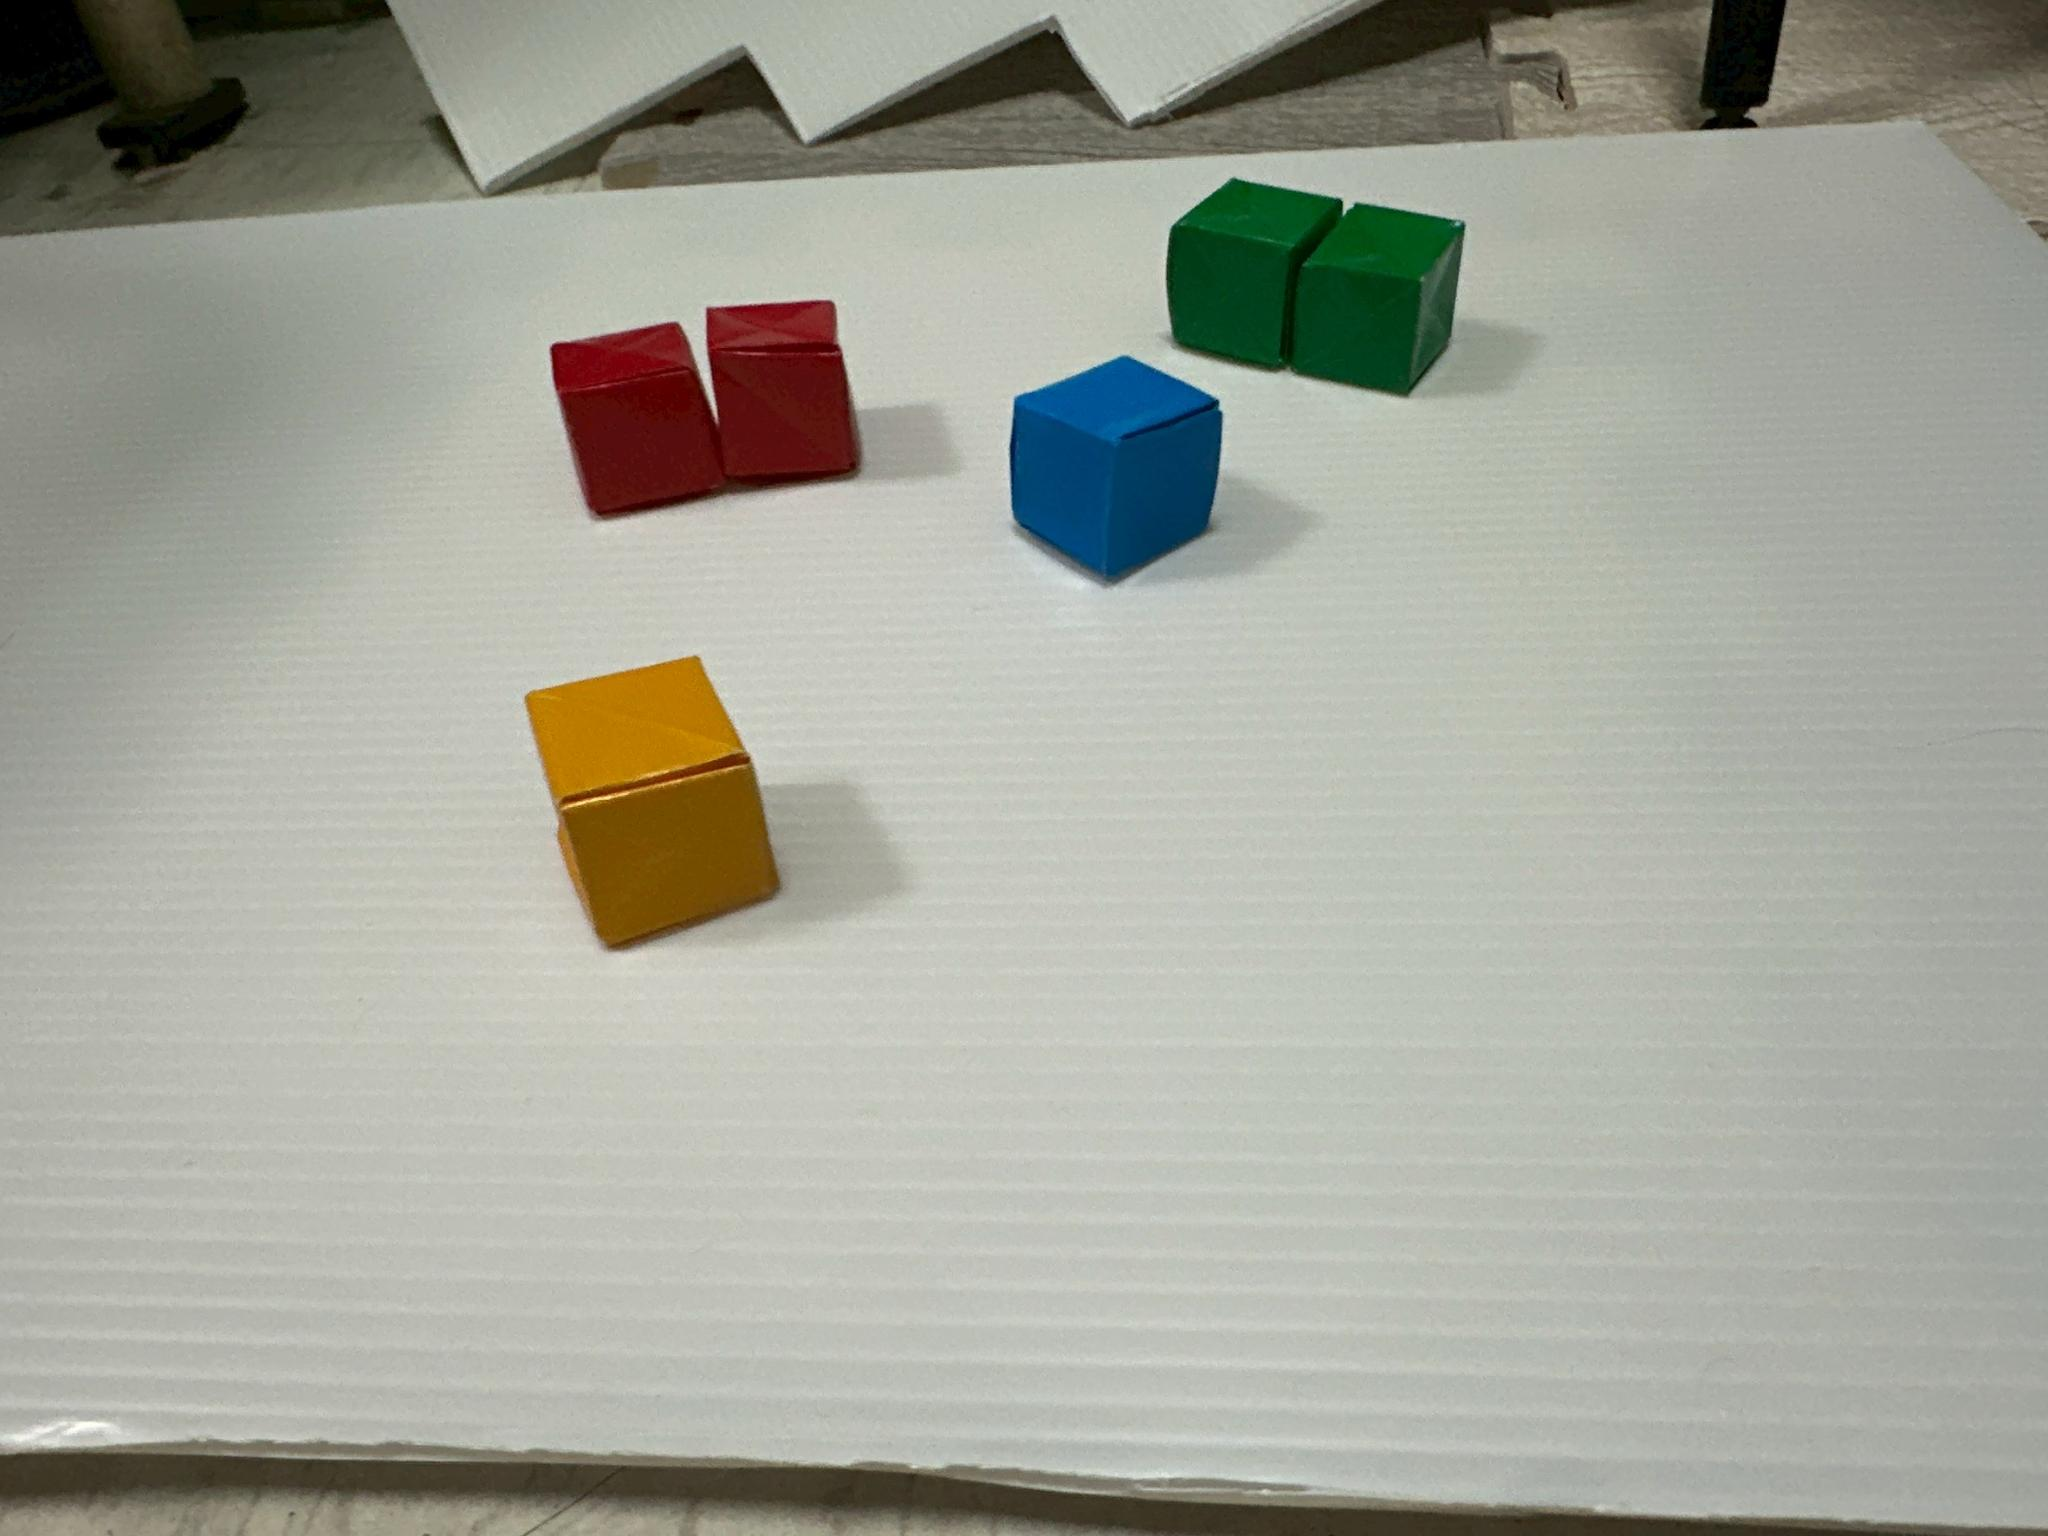cube: (527, 658, 779, 948), (1010, 357, 1222, 579), (551, 323, 725, 515), (1167, 179, 1342, 367), (1291, 205, 1463, 396), (707, 300, 859, 483)
